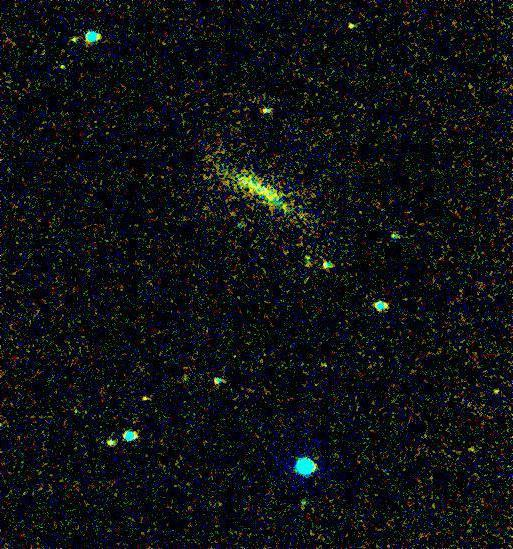star: (338, 10, 368, 40)
